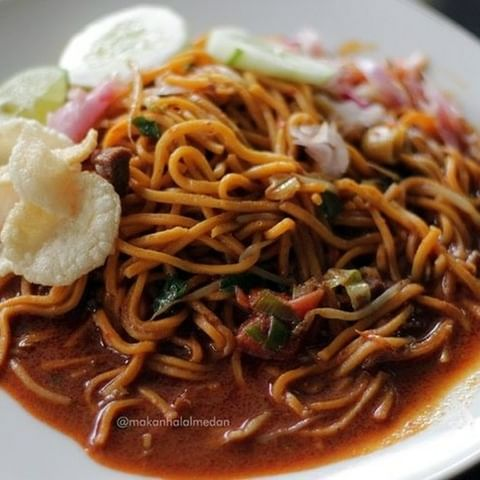Mie: (38, 41, 480, 431)
